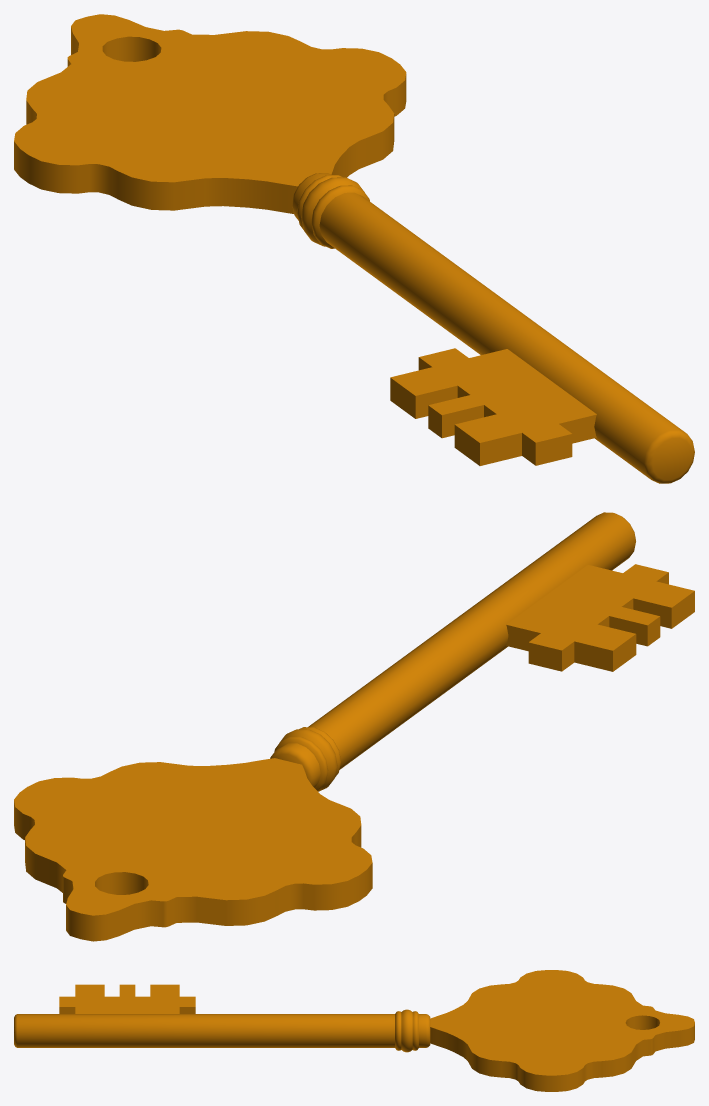
Rendered from key.fbx.
3 renders of one model, top to bottom at view 1: azimuth 30°, elevation 25°; view 2: azimuth 150°, elevation 25°; view 3: azimuth 270°, elevation 25°, orthographic. The views are drawn at different scales.
Visible parts, largest first — view 1: key_low; view 2: key_low; view 3: key_low.
Boxes of the visible parts, left/top/right/bottom form: key_low: left=14, top=14, right=694, bottom=483; key_low: left=14, top=512, right=694, bottom=941; key_low: left=14, top=970, right=694, bottom=1091.
Size of the model in its own units: 0.11 by 0.0189 by 0.3.
